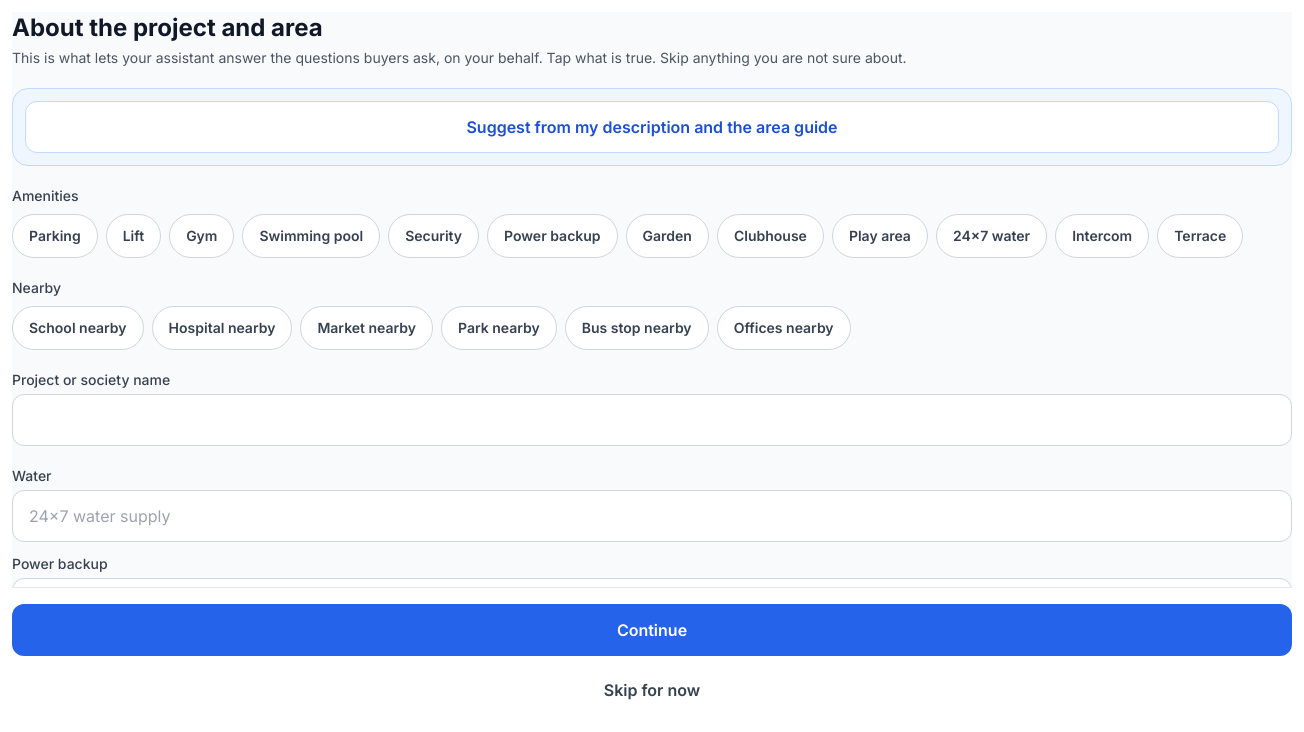
Test: AboutStep › refuses phone numbers and links before they reach the server
The width and height of the screenshot is (1304, 732).
Step 1. Type "call 98765 43210" into the field labelled "Water" → (652, 516), box top-left (12, 490), bottom-right (1292, 542)
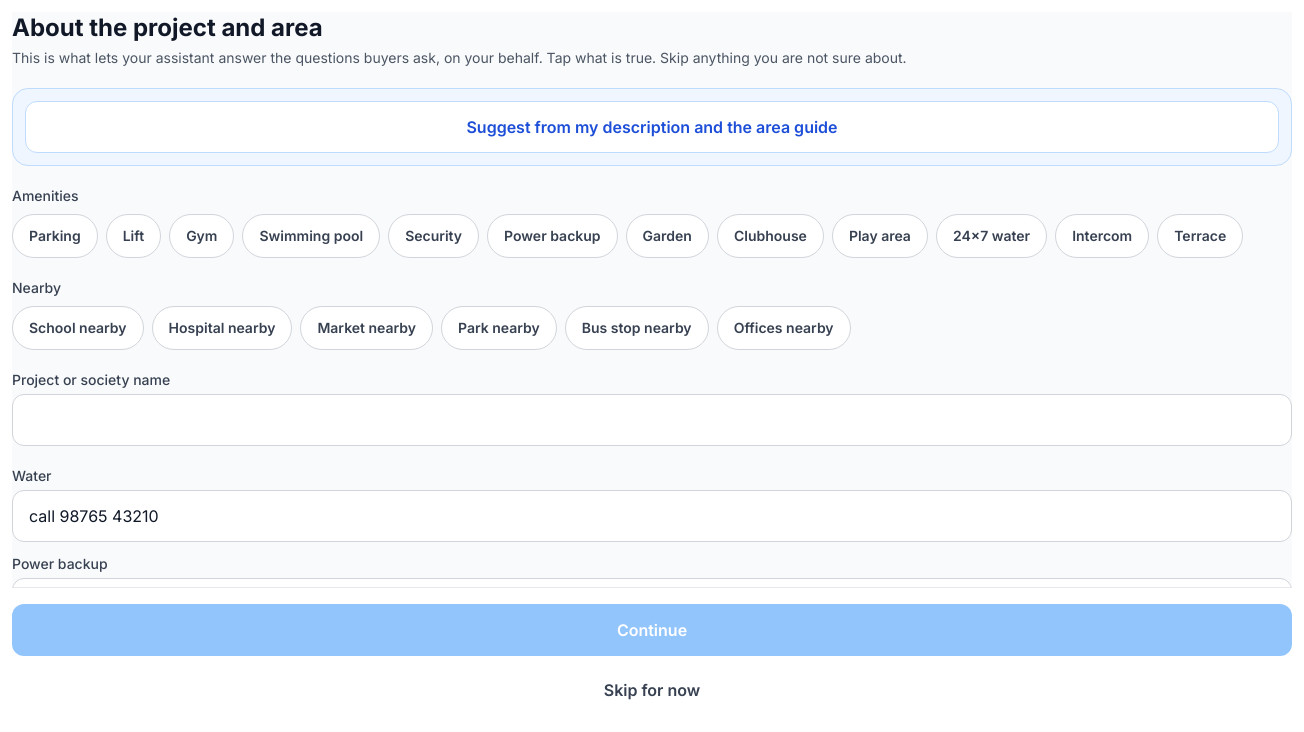
Now the button "Continue" is disabled, box top-left (12, 604), bottom-right (1292, 656)
Step 2. Replace the text in the field labelled "Water" with "see www.mysite.com" → (652, 516), box top-left (12, 490), bottom-right (1292, 542)
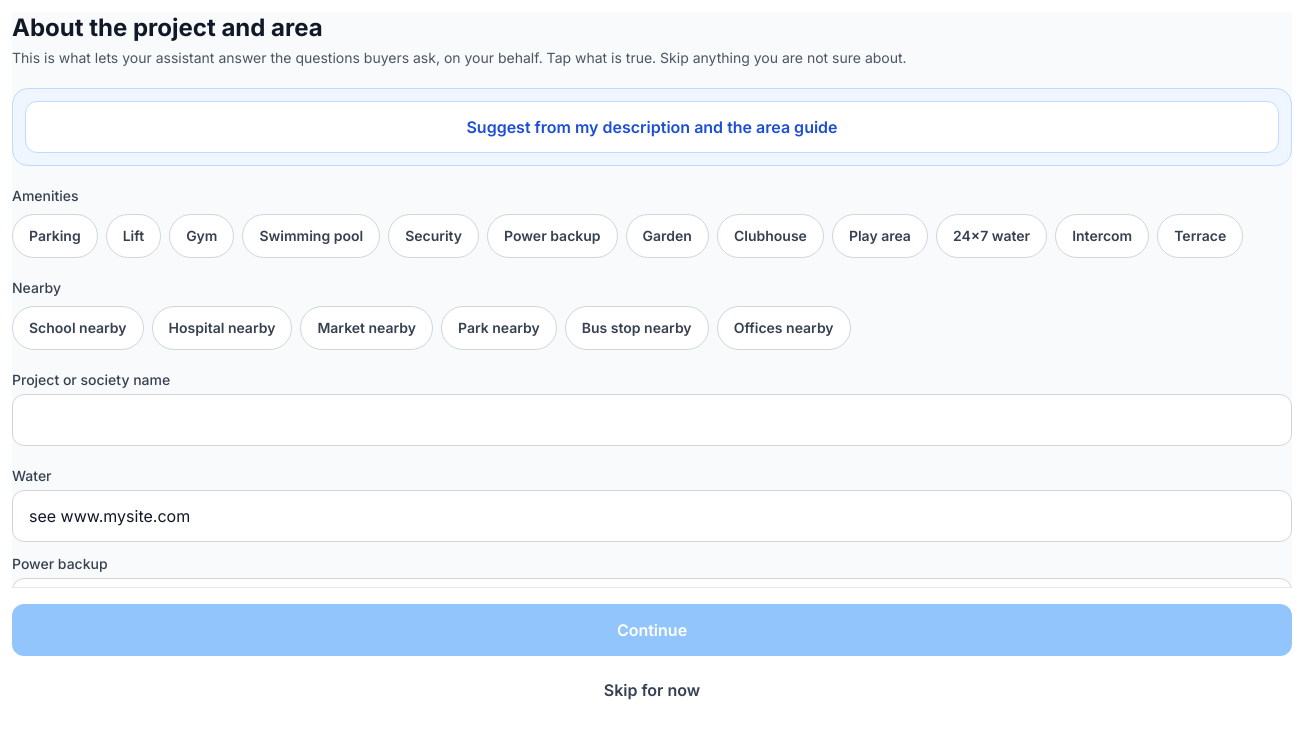
Step 3. Replace the text in the field labelled "Water" with "Borewell" → (652, 516), box top-left (12, 490), bottom-right (1292, 542)
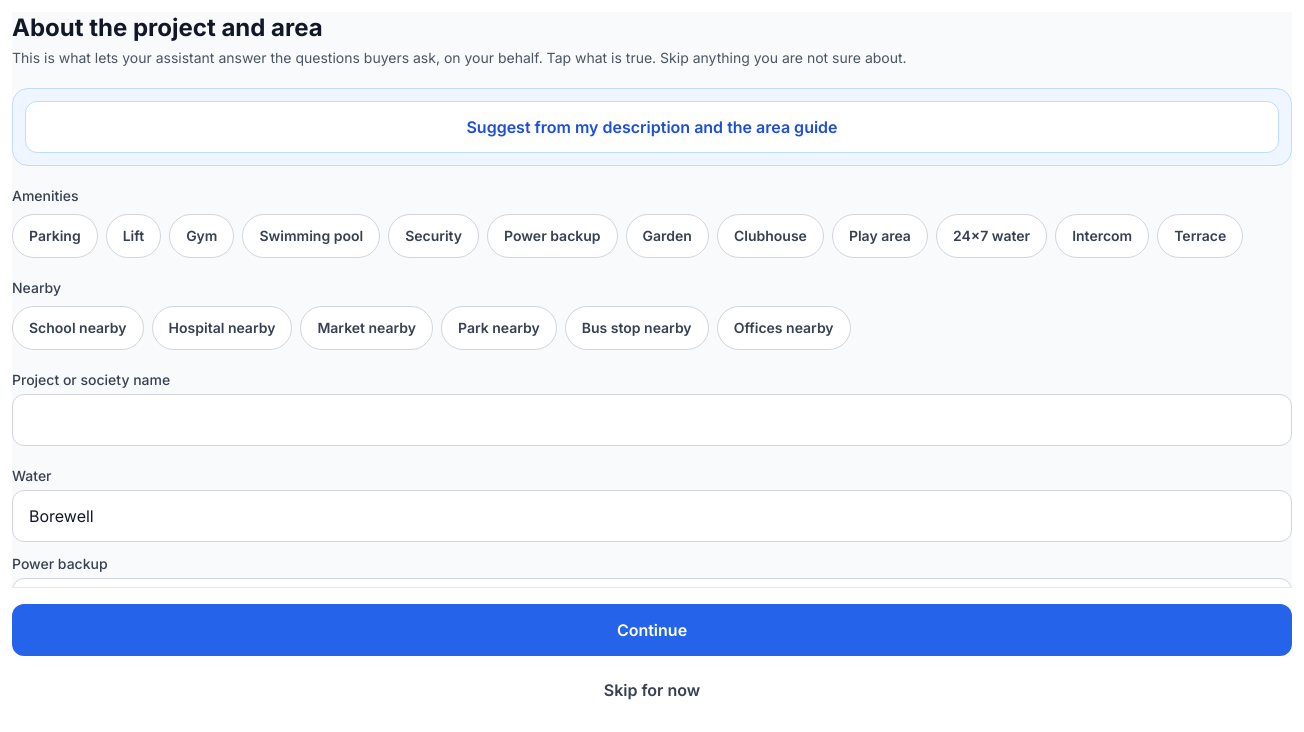
Now the button "Continue" is enabled, box top-left (12, 604), bottom-right (1292, 656)
